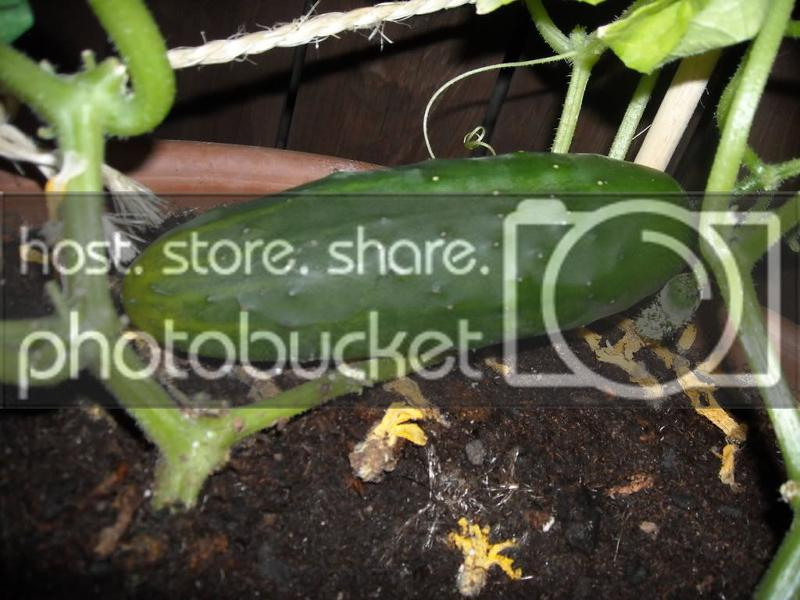Cucumber: (122, 154, 693, 366)
